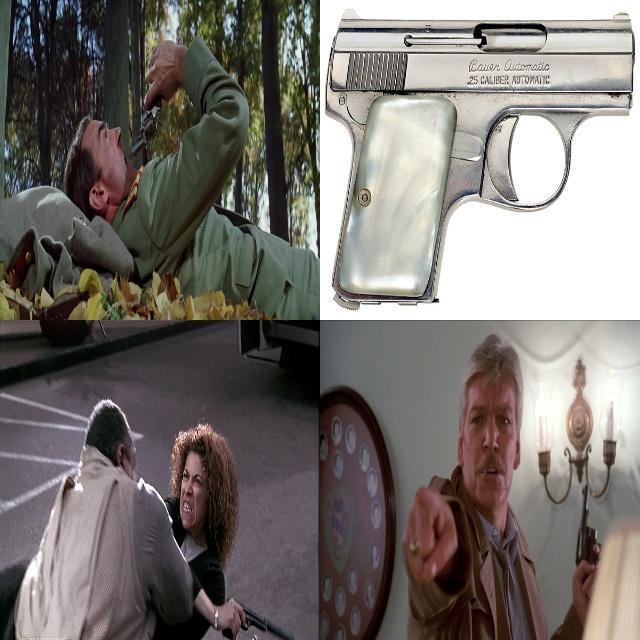gun-knife-thesis - v11 Yolov5 augmented: (322, 2, 631, 314), (570, 482, 609, 592), (216, 588, 296, 638), (128, 65, 166, 157)
